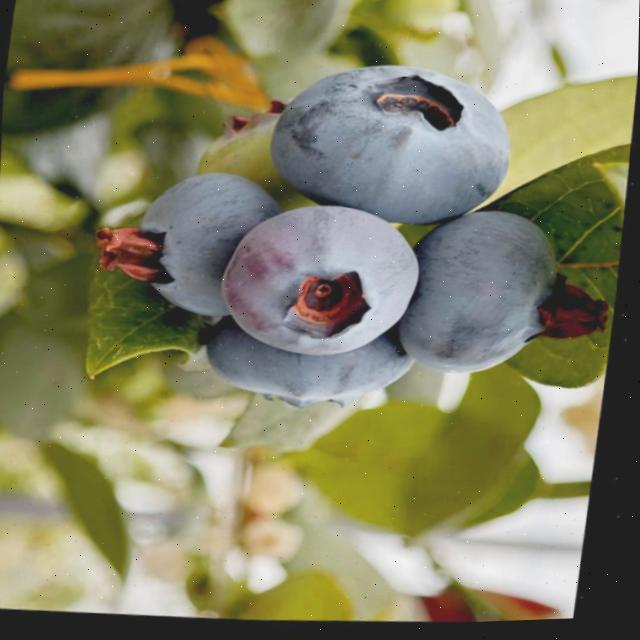RipeBlueBerry: (262, 54, 527, 244), (215, 202, 433, 375), (403, 205, 581, 390), (129, 166, 293, 330), (202, 320, 430, 425)
